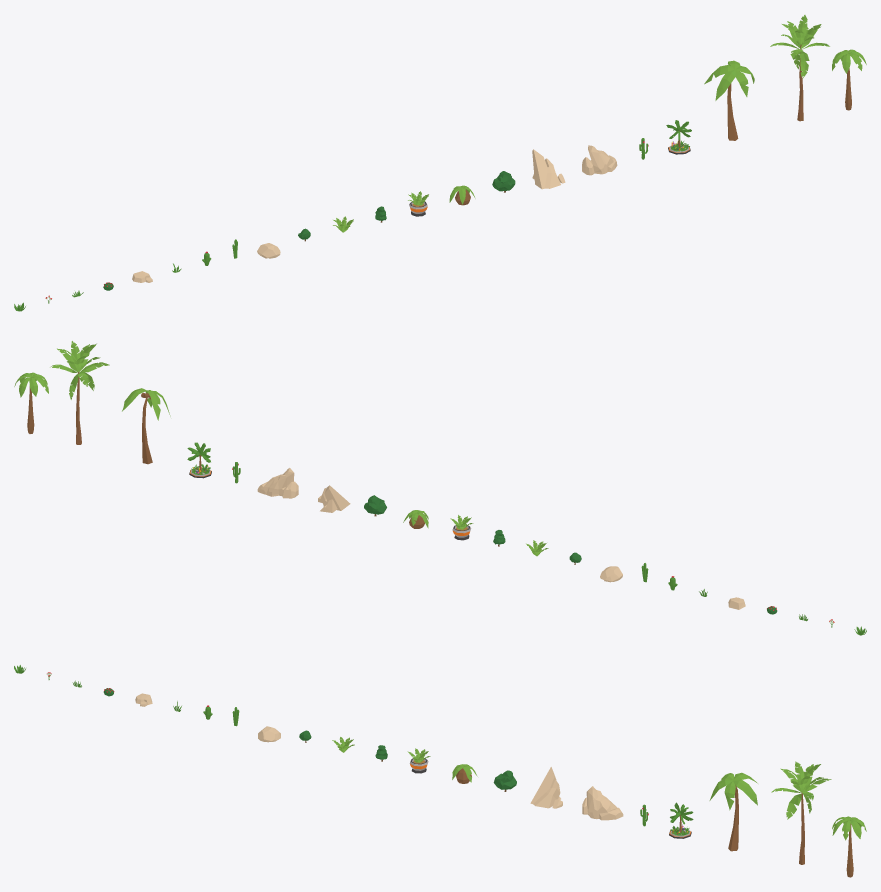
Rendered from nature-props.glb.
3 renders of one model, top to bottom at view 1: azimuth 30°, elevation 25°; view 2: azimuth 150°, elevation 25°; view 3: azimuth 330°, elevation 25°, orthographic.
Visible parts, largest first — view 1: palm-high, palm-big, rock-sharp, rock-large, palm; view 2: palm-high, palm-big, rock-large, palm; view 3: palm-high, palm-big, rock-large, rock-sharp, palm, scifi-pot-low-palm.
Boxes of the visible parts, bbox=[...] form: palm-high: bbox=[770, 15, 829, 121]; palm-big: bbox=[704, 60, 754, 140]; rock-sharp: bbox=[532, 149, 565, 189]; rock-large: bbox=[582, 145, 617, 175]; palm: bbox=[832, 49, 866, 110]; palm-high: bbox=[50, 341, 109, 444]; palm-big: bbox=[122, 388, 170, 464]; rock-large: bbox=[257, 468, 298, 498]; palm: bbox=[14, 372, 48, 433]; palm-high: bbox=[771, 761, 831, 864]; palm-big: bbox=[709, 772, 757, 851]; rock-large: bbox=[582, 786, 623, 820]; rock-sharp: bbox=[530, 767, 562, 808]; palm: bbox=[832, 816, 866, 877]; scifi-pot-low-palm: bbox=[669, 802, 693, 838].
Size of the model in its own units: 115 by 13.12 by 6.12.
1 material, 1 textured.
